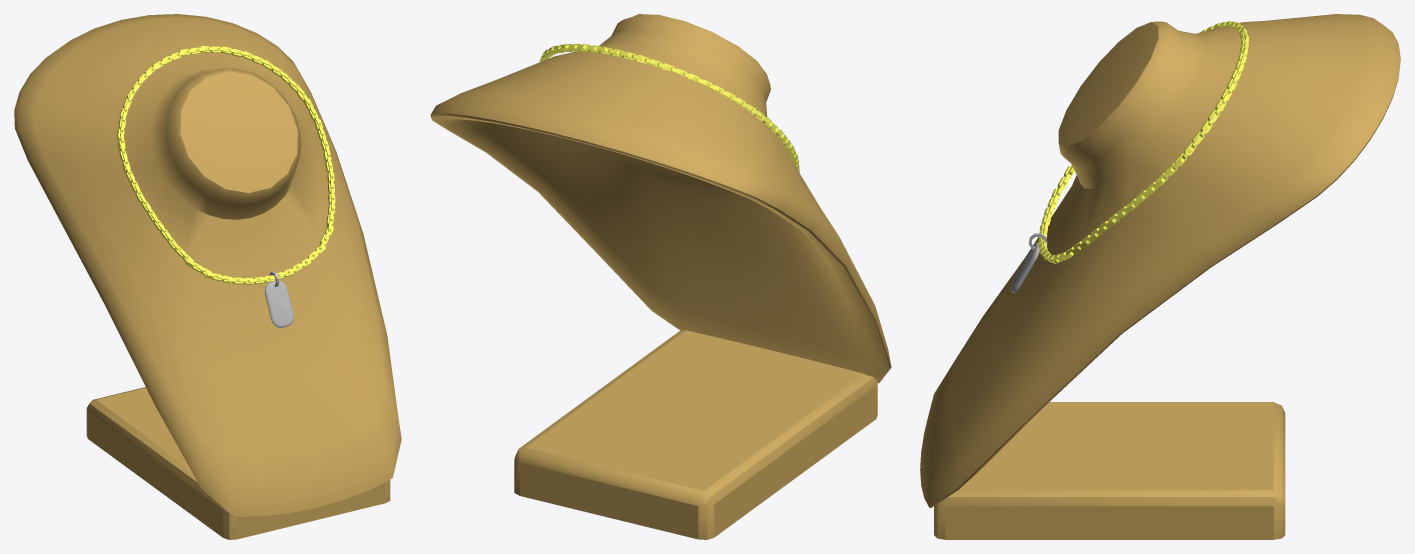
The model's file is Necklace_10.fbx.
The picture shows the model from 3 angles, left to right: view 1: azimuth 30°, elevation 25°; view 2: azimuth 150°, elevation 25°; view 3: azimuth 270°, elevation 25°; orthographic projection. The views are drawn at different scales.
Parts seen in each view (by area): view 1: SM_Stand_Necklace_14, SM_Necklace_9, SM_Cullon_6; view 2: SM_Stand_Necklace_14, SM_Necklace_9; view 3: SM_Stand_Necklace_14, SM_Necklace_9, SM_Cullon_6.
Boxes of the visible parts, x1,y1,x2,y2 form: SM_Stand_Necklace_14: [14, 14, 401, 539]; SM_Necklace_9: [117, 46, 335, 284]; SM_Cullon_6: [264, 271, 293, 327]; SM_Stand_Necklace_14: [430, 14, 891, 539]; SM_Necklace_9: [539, 44, 799, 172]; SM_Stand_Necklace_14: [920, 14, 1400, 539]; SM_Necklace_9: [1038, 21, 1249, 263]; SM_Cullon_6: [1011, 233, 1047, 293].
Bounding box in the file's own units: 22.51 × 29.29 × 27.78.
